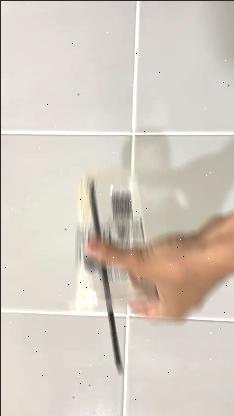Others: (64, 165, 162, 337)
